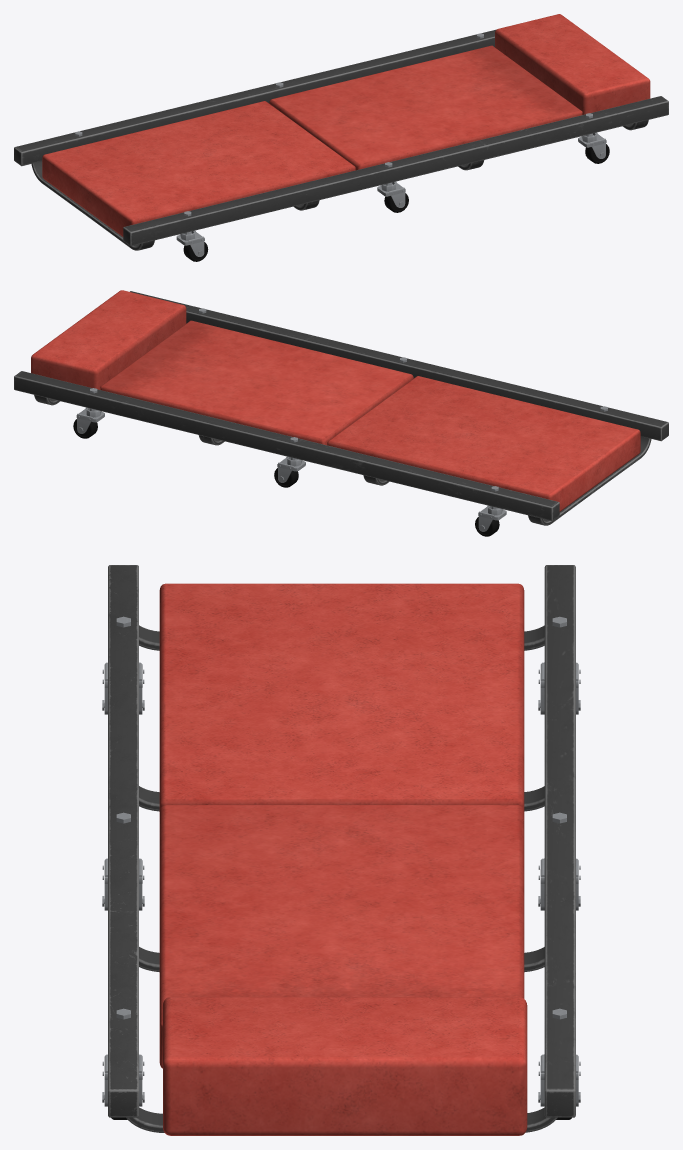
Rendered from mechanic_creeper.glb.
3 views of the same model, one above another, from view 1: azimuth 30°, elevation 25°; view 2: azimuth 150°, elevation 25°; view 3: azimuth 270°, elevation 25° (orthographic). The views are drawn at different scales.
Parts seen in each view (by area): view 1: Mattress, Metal_Bars, Casters, Wheels; view 2: Mattress, Metal_Bars, Casters, Wheels; view 3: Mattress, Metal_Bars, Casters.
Boxes of the visible parts, left/top/right/bottom form: Mattress: left=42, top=14, right=650, bottom=236; Metal_Bars: left=14, top=29, right=668, bottom=250; Casters: left=75, top=33, right=606, bottom=256; Wheels: left=183, top=144, right=609, bottom=261; Mattress: left=31, top=290, right=640, bottom=511; Metal_Bars: left=14, top=291, right=668, bottom=525; Casters: left=76, top=308, right=607, bottom=531; Wheels: left=73, top=419, right=499, bottom=536; Mattress: left=159, top=583, right=527, bottom=1135; Metal_Bars: left=108, top=565, right=575, bottom=1132; Casters: left=102, top=616, right=580, bottom=1106.
Size of the model in its own units: 1.2 by 0.1282 by 0.4614.
4 materials, 4 textured.
